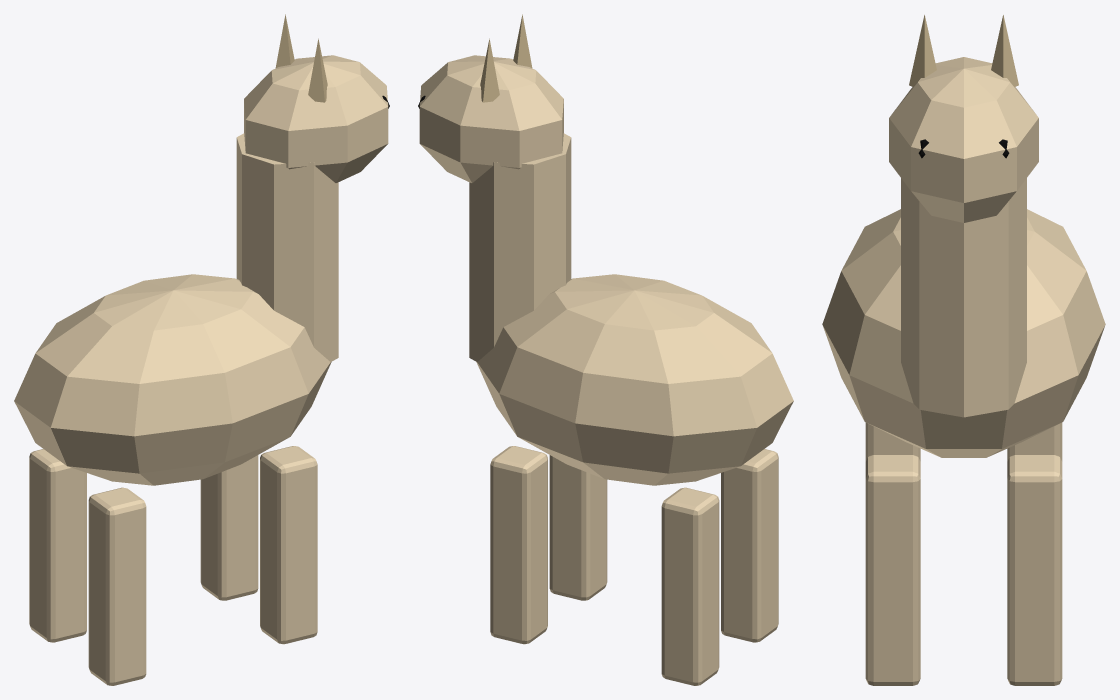
The model's file is an-alpaca-ArCBJTR0.glb.
The picture shows the model from 3 angles, left to right: view 1: azimuth 30°, elevation 25°; view 2: azimuth 150°, elevation 25°; view 3: azimuth 270°, elevation 25°; orthographic projection. The views are drawn at different scales.
Parts seen in each view (by area): view 1: an-alpaca; view 2: an-alpaca; view 3: an-alpaca.
Part boxes in pixels (x1=…): an-alpaca: x1=14, y1=14, x2=389, y2=685; an-alpaca: x1=418, y1=14, x2=793, y2=685; an-alpaca: x1=822, y1=15, x2=1105, y2=685.
Size of the model in its own units: 0.1242 by 0.193 by 0.072.
